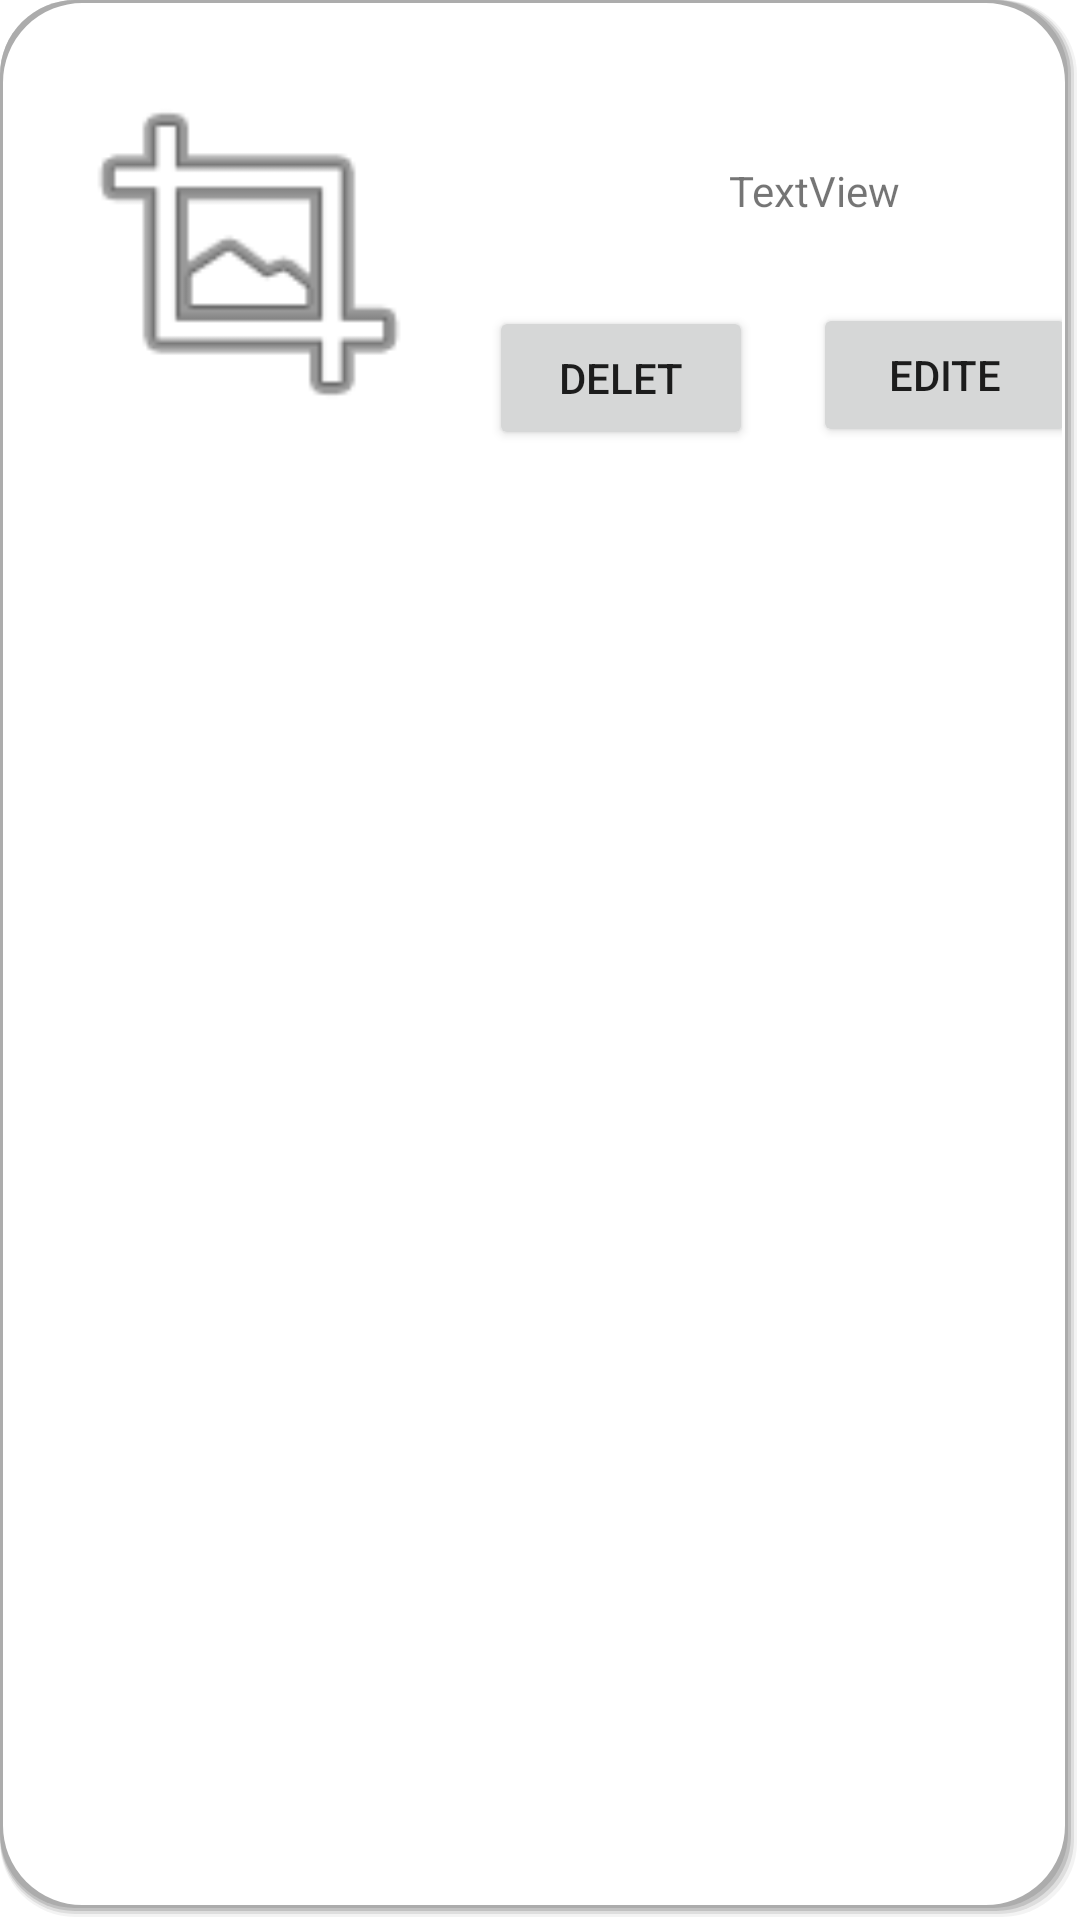

Where to tap for icons on this 1080 x 1920 app screen, as point (x, y):
crop: point (249, 254)
